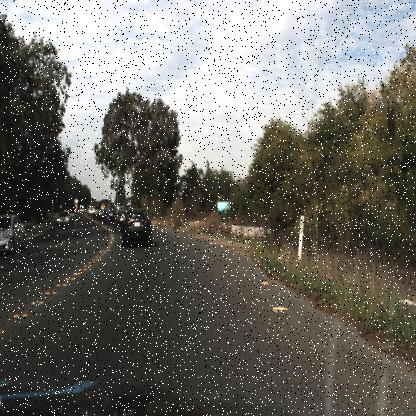car: (120, 205, 154, 250), (1, 211, 26, 259), (101, 200, 118, 227), (53, 208, 70, 228), (113, 206, 124, 230), (95, 201, 107, 222), (90, 204, 100, 221), (86, 202, 94, 216)
